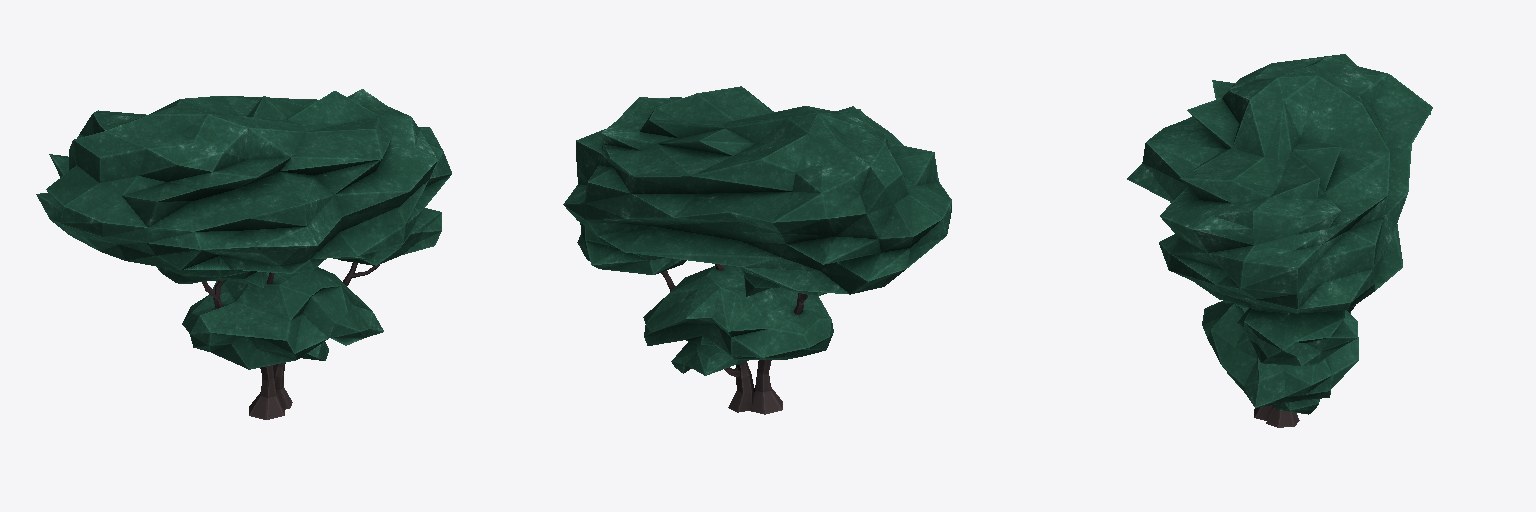
The picture shows the model from 3 angles: view 1: azimuth 30°, elevation 25°; view 2: azimuth 150°, elevation 25°; view 3: azimuth 270°, elevation 25°; orthographic projection.
Visible parts, largest first — view 1: MacassarTree_mesh; view 2: MacassarTree_mesh; view 3: MacassarTree_mesh.
Part boxes in pixels (x1,y1,x2,y2): MacassarTree_mesh: (36,89,451,419); MacassarTree_mesh: (563,86,951,414); MacassarTree_mesh: (1127,54,1432,427).
Bounding box in the file's own units: 17.42 × 13.69 × 12.32.
1 materials, 1 textured.